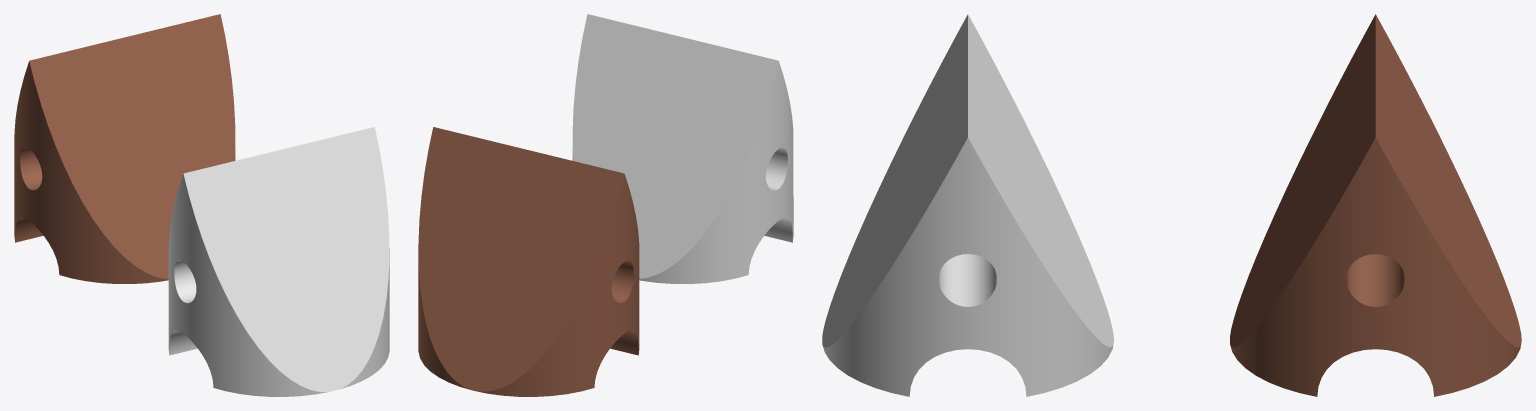
3 renders of one model, left to right at view 1: azimuth 30°, elevation 25°; view 2: azimuth 150°, elevation 25°; view 3: azimuth 270°, elevation 25°, orthographic. The views are drawn at different scales.
Parts seen in each view (by area): view 1: A, A.001; view 2: A.001, A; view 3: A.001, A.
Boxes of the visible parts, x1,y1,x2,y2 form: A: (168,127,389,396); A.001: (14,14,235,283); A.001: (418,127,639,396); A: (572,14,793,283); A.001: (1230,14,1521,396); A: (822,14,1113,396).
Size of the model in its own units: 0.3664 by 0.3663 by 0.8775.
